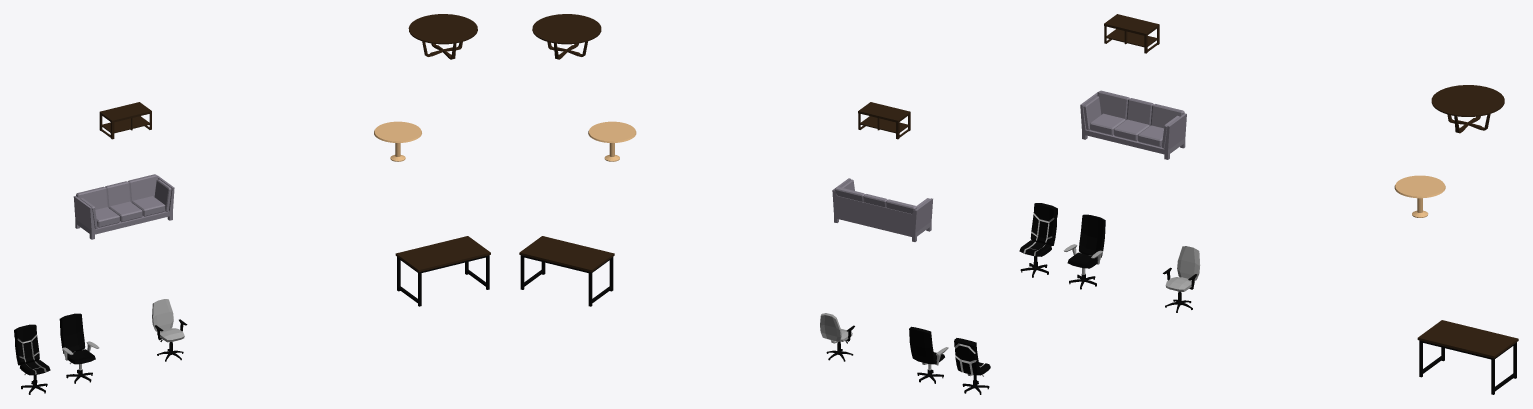
File: chairs.fbx
The picture shows the model from 3 angles, left to right: view 1: azimuth 30°, elevation 25°; view 2: azimuth 150°, elevation 25°; view 3: azimuth 330°, elevation 25°; orthographic projection. The views are drawn at different scales.
Visible parts, largest first — view 1: Cube.014, Cube.004, roundtable2, Cube.017, Cube.018, Cube.002, Cube.013, Circle.002; view 2: Cube.014, Cube.004, roundtable2, Cube.002, Cube.017, Cube.018, Circle.002, Cube.013; view 3: Cube.014, Cube.004, roundtable2, Cube.017, Cube.018, Cube.002, Cube.013, Circle.002.
Part boxes in pixels (x1,y1,x2,y2): Cube.014: [73, 174, 174, 239]; Cube.004: [395, 236, 490, 306]; roundtable2: [408, 14, 477, 59]; Cube.017: [59, 313, 99, 383]; Cube.018: [14, 324, 50, 394]; Cube.002: [99, 102, 151, 139]; Cube.013: [152, 299, 187, 361]; Circle.002: [374, 121, 421, 161]; Cube.014: [832, 178, 932, 241]; Cube.004: [519, 236, 614, 306]; roundtable2: [532, 14, 601, 59]; Cube.002: [858, 102, 910, 139]; Cube.017: [909, 326, 948, 383]; Cube.018: [954, 338, 990, 394]; Circle.002: [588, 121, 636, 161]; Cube.013: [820, 313, 854, 361]; Cube.014: [1080, 90, 1186, 159]; Cube.004: [1417, 320, 1518, 394]; roundtable2: [1431, 85, 1504, 133]; Cube.017: [1064, 214, 1105, 289]; Cube.018: [1019, 203, 1057, 277]; Cube.002: [1104, 14, 1159, 53]; Cube.013: [1163, 246, 1200, 312]; Circle.002: [1394, 175, 1445, 217].
Bounding box in the file's own units: 1004 × 551 × 132.
